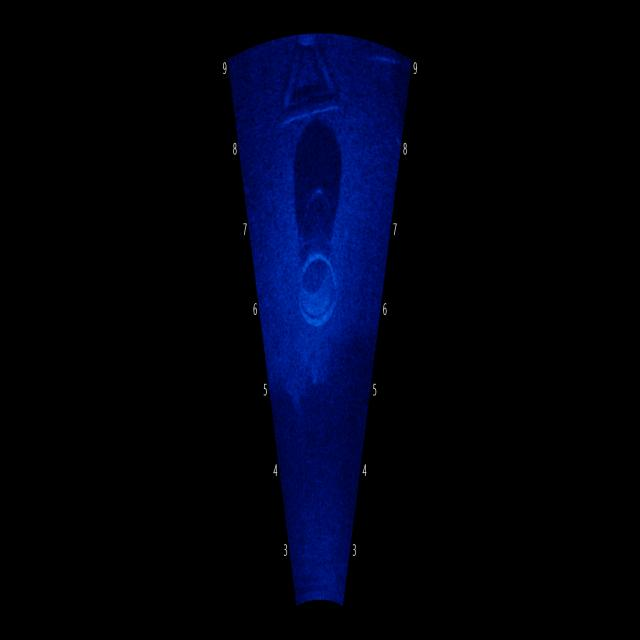circle: (291, 222, 365, 358)
triangle: (268, 40, 344, 142)
